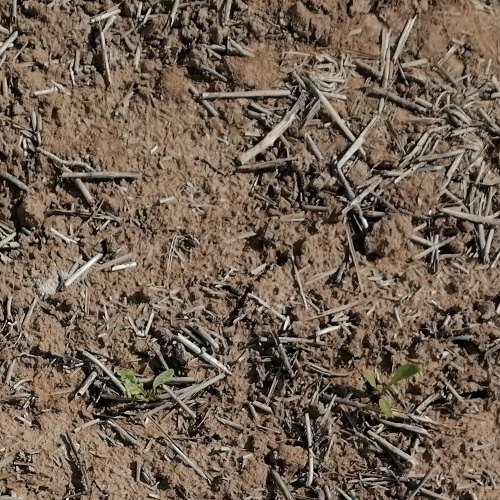beet: (362, 365, 422, 420), (119, 366, 176, 403)
